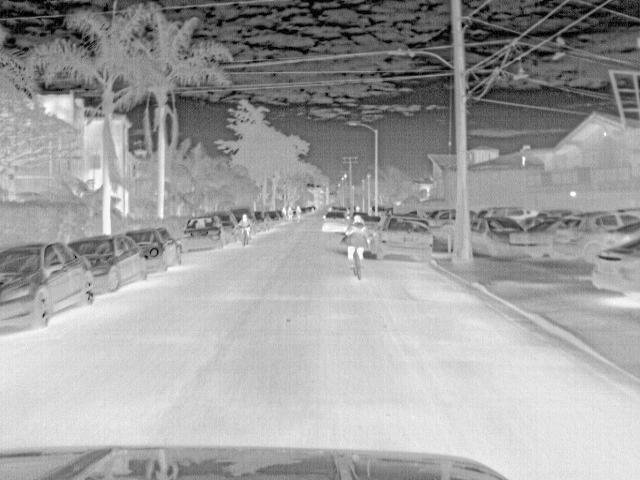car: (0, 240, 96, 334), (66, 233, 145, 297), (552, 210, 638, 262), (367, 214, 435, 262), (589, 236, 639, 294), (470, 214, 524, 262), (126, 229, 180, 272), (506, 220, 559, 262), (180, 216, 224, 251), (427, 206, 450, 242), (320, 212, 349, 233)
person: (347, 213, 367, 265), (238, 211, 251, 241)
